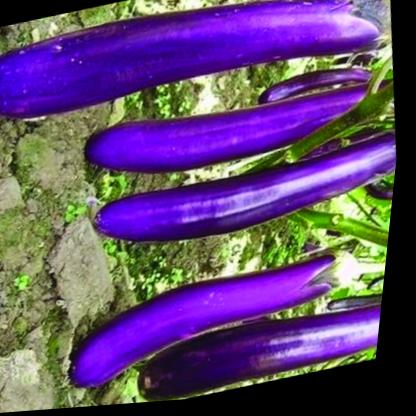eggplant: (0, 0, 401, 144), (52, 243, 394, 397), (72, 64, 402, 190), (84, 138, 403, 257), (134, 303, 389, 406)
